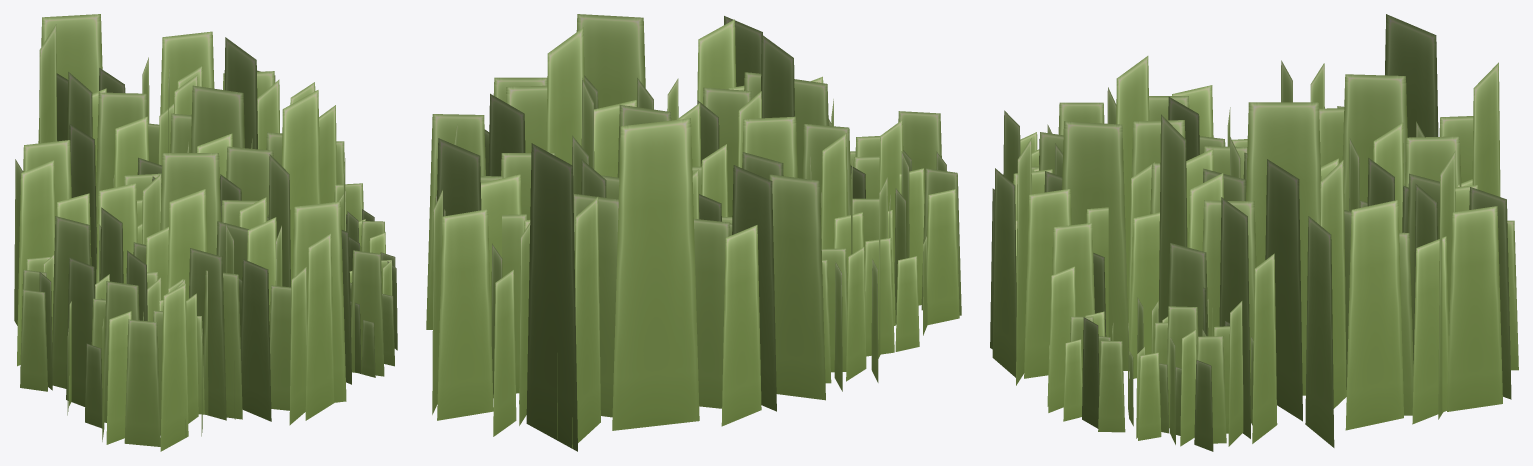
The model's file is SM_Grass_01_D.fbx.
The picture shows the model from 3 angles, left to right: view 1: azimuth 30°, elevation 25°; view 2: azimuth 150°, elevation 25°; view 3: azimuth 270°, elevation 25°; orthographic projection. The views are drawn at different scales.
Visible parts, largest first — view 1: polySurface653; view 2: polySurface653; view 3: polySurface653.
Boxes of the visible parts, x1=… form: polySurface653: x1=14, y1=14, x2=397, y2=451; polySurface653: x1=426, y1=14, x2=961, y2=451; polySurface653: x1=990, y1=14, x2=1518, y2=451.
Size of the model in its own units: 59.99 by 42.59 by 68.76.
